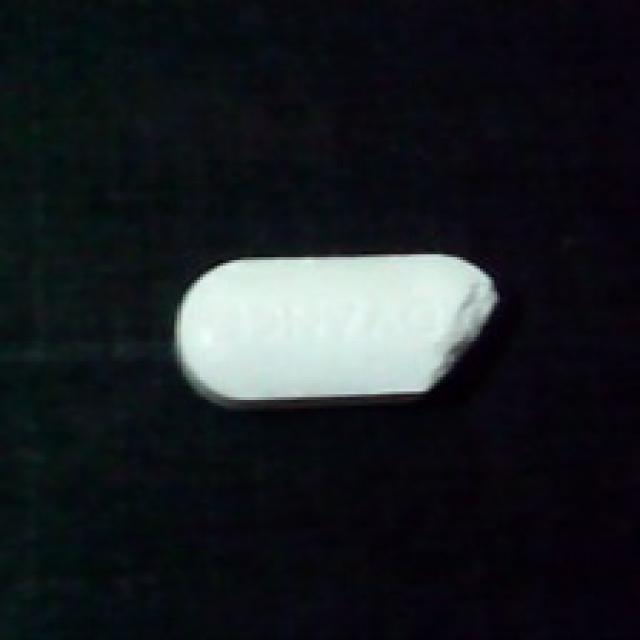defected: (160, 249, 506, 411)
